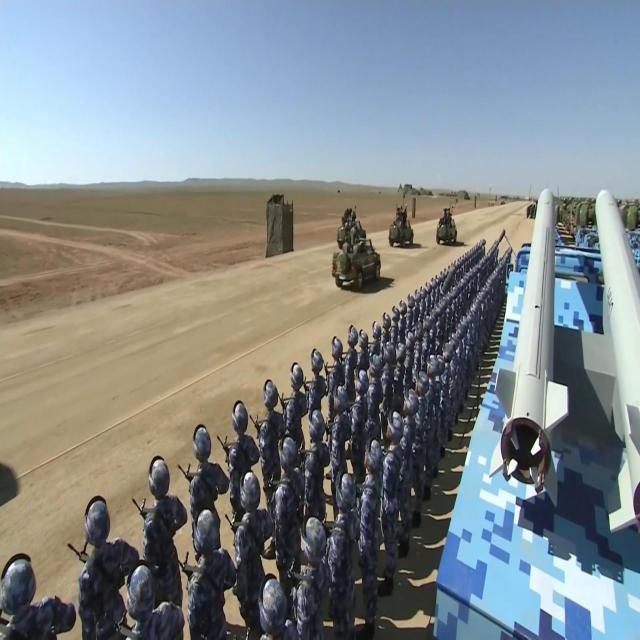Soldier: (69, 488, 123, 640), (131, 444, 178, 597), (181, 504, 233, 636), (230, 466, 273, 612), (178, 416, 223, 544), (268, 433, 304, 592), (295, 512, 336, 640), (113, 548, 168, 640), (5, 554, 62, 640), (335, 470, 363, 640), (362, 442, 383, 640), (299, 406, 328, 538), (222, 400, 259, 494), (383, 416, 400, 602), (257, 570, 300, 640), (262, 381, 288, 481), (353, 370, 375, 486), (308, 336, 329, 439), (286, 354, 307, 442), (327, 386, 348, 469), (329, 334, 346, 406), (343, 323, 361, 384), (359, 327, 371, 374), (373, 312, 384, 354), (381, 315, 394, 336)
